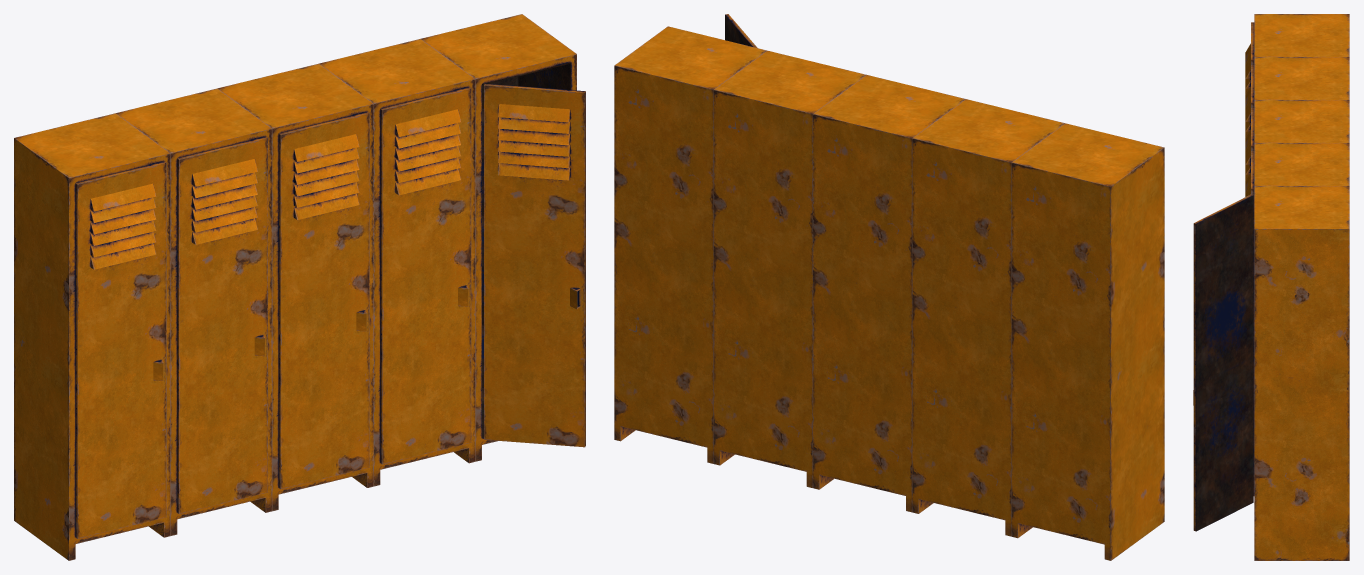
The model's file is steel_locker.glb.
3 views of the same model, side by side, from view 1: azimuth 30°, elevation 25°; view 2: azimuth 150°, elevation 25°; view 3: azimuth 270°, elevation 25° (orthographic). The views are drawn at different scales.
Parts seen in each view (by area): view 1: Door001_Steel_locker _0, Door005_Steel_locker _0, Door002_Steel_locker _0, Door003_Steel_locker _0, Door004_Steel_locker _0, Steel_locker004, Steel_locker003, Steel_locker001, Steel_locker002, Steel_locker; view 2: Steel_locker004, Steel_locker001, Steel_locker003, Steel_locker, Steel_locker002; view 3: Steel_locker, Door001_Steel_locker _0, Steel_locker001, Steel_locker002, Steel_locker003, Steel_locker004, Door002_Steel_locker _0, Door005_Steel_locker _0, Door003_Steel_locker _0, Door004_Steel_locker _0.
Boxes of the visible parts, left/top/right/bottom form: Door001_Steel_locker _0: left=484, top=83, right=585, bottom=447; Door005_Steel_locker _0: left=75, top=161, right=166, bottom=538; Door002_Steel_locker _0: left=380, top=87, right=471, bottom=464; Door003_Steel_locker _0: left=278, top=111, right=369, bottom=489; Door004_Steel_locker _0: left=177, top=136, right=267, bottom=513; Steel_locker004: left=14, top=113, right=170, bottom=560; Steel_locker003: left=116, top=88, right=272, bottom=535; Steel_locker001: left=319, top=39, right=475, bottom=486; Steel_locker002: left=217, top=63, right=373, bottom=511; Steel_locker: left=421, top=14, right=576, bottom=461; Steel_locker004: left=1011, top=123, right=1164, bottom=560; Steel_locker001: left=713, top=50, right=866, bottom=487; Steel_locker003: left=912, top=99, right=1064, bottom=536; Steel_locker: left=614, top=26, right=766, bottom=463; Steel_locker002: left=813, top=75, right=965, bottom=512; Steel_locker: left=1254, top=186, right=1349, bottom=560; Door001_Steel_locker _0: left=1193, top=194, right=1253, bottom=531; Steel_locker001: left=1254, top=143, right=1349, bottom=185; Steel_locker002: left=1254, top=100, right=1349, bottom=142; Steel_locker003: left=1254, top=57, right=1349, bottom=99; Steel_locker004: left=1254, top=14, right=1349, bottom=56; Door002_Steel_locker _0: left=1245, top=151, right=1254, bottom=495; Door005_Steel_locker _0: left=1245, top=22, right=1254, bottom=94; Door003_Steel_locker _0: left=1245, top=108, right=1254, bottom=180; Door004_Steel_locker _0: left=1245, top=65, right=1254, bottom=137.
Bounding box in the file's own units: 0.3341 × 0.2405 × 0.1026.
1 material, 1 textured.
